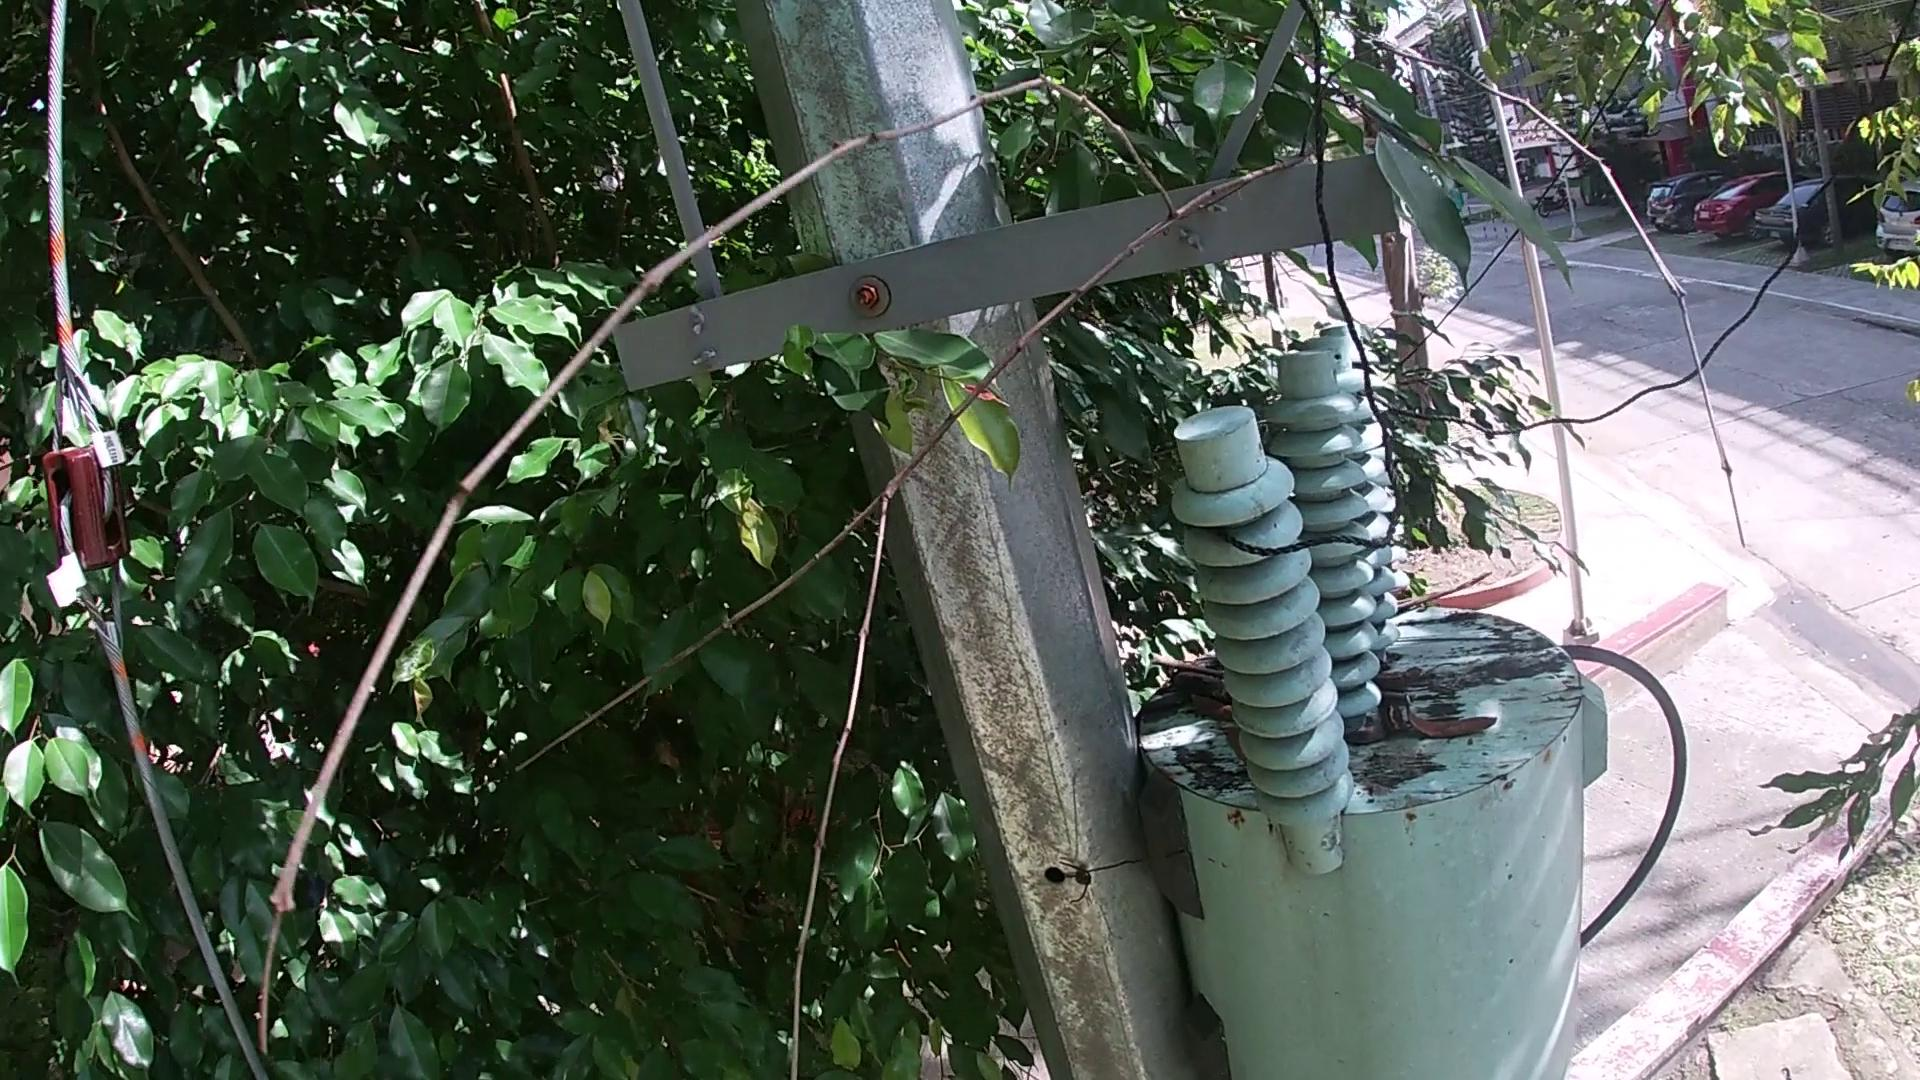leaf: (1396, 688, 1505, 746), (1185, 688, 1236, 724), (1211, 721, 1246, 754)
tree branch: (252, 44, 1750, 1077), (1390, 571, 1503, 618), (1143, 651, 1241, 705)
